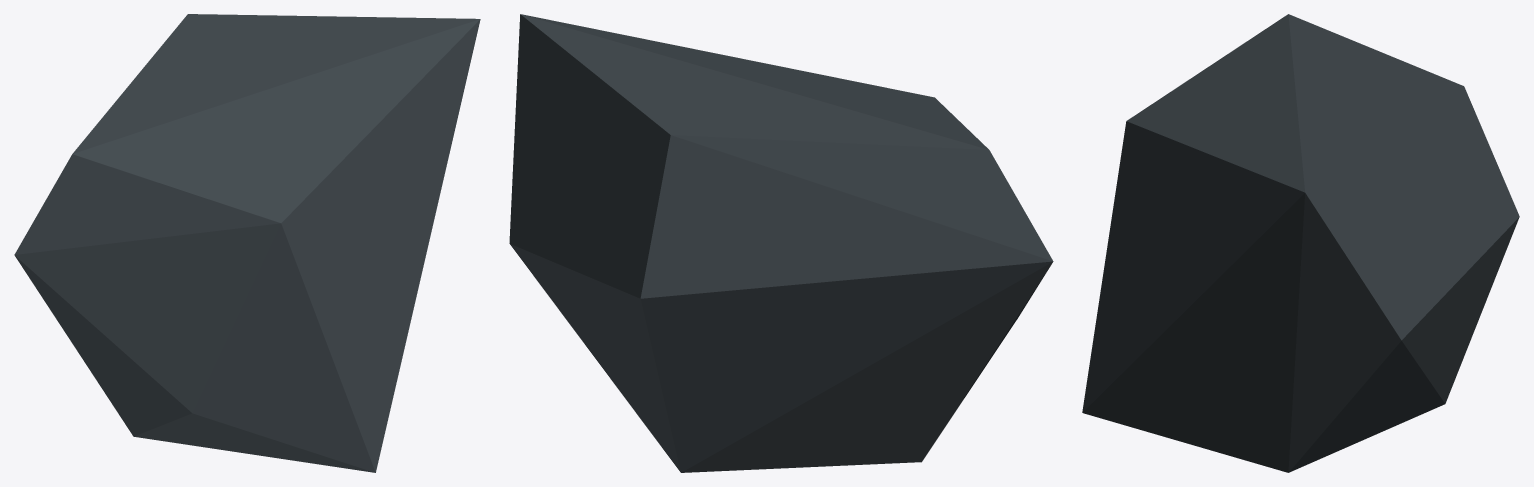
Rendered from Rock-B15.fbx.
3 views of the same model, side by side, from view 1: azimuth 30°, elevation 25°; view 2: azimuth 150°, elevation 25°; view 3: azimuth 270°, elevation 25° (orthographic). The views are drawn at different scales.
Visible parts, largest first — view 1: Rock-B15; view 2: Rock-B15; view 3: Rock-B15.
Boxes of the visible parts, bbox=[...] form: Rock-B15: bbox=[14, 14, 480, 472]; Rock-B15: bbox=[509, 14, 1053, 472]; Rock-B15: bbox=[1082, 14, 1519, 472].
Size of the model in its own units: 56.97 by 37.4 by 44.75.
